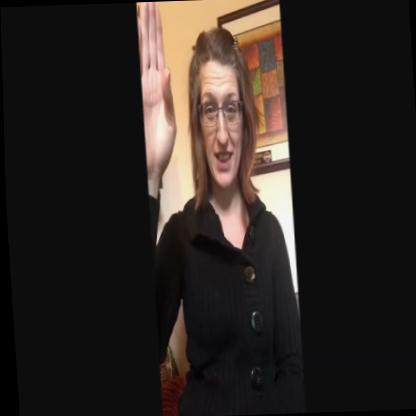Hello: (128, 0, 268, 239)
